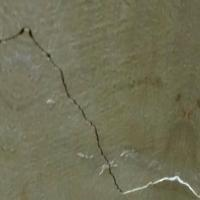crack: (2, 23, 199, 199)
